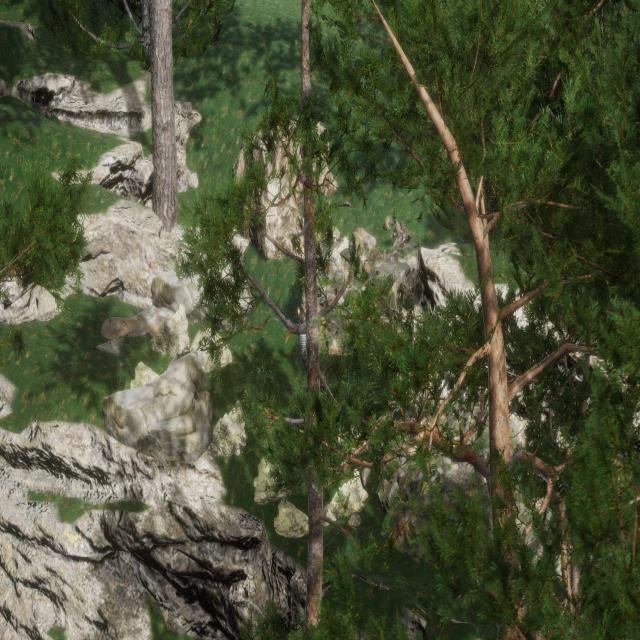Human: (293, 298, 308, 378)
